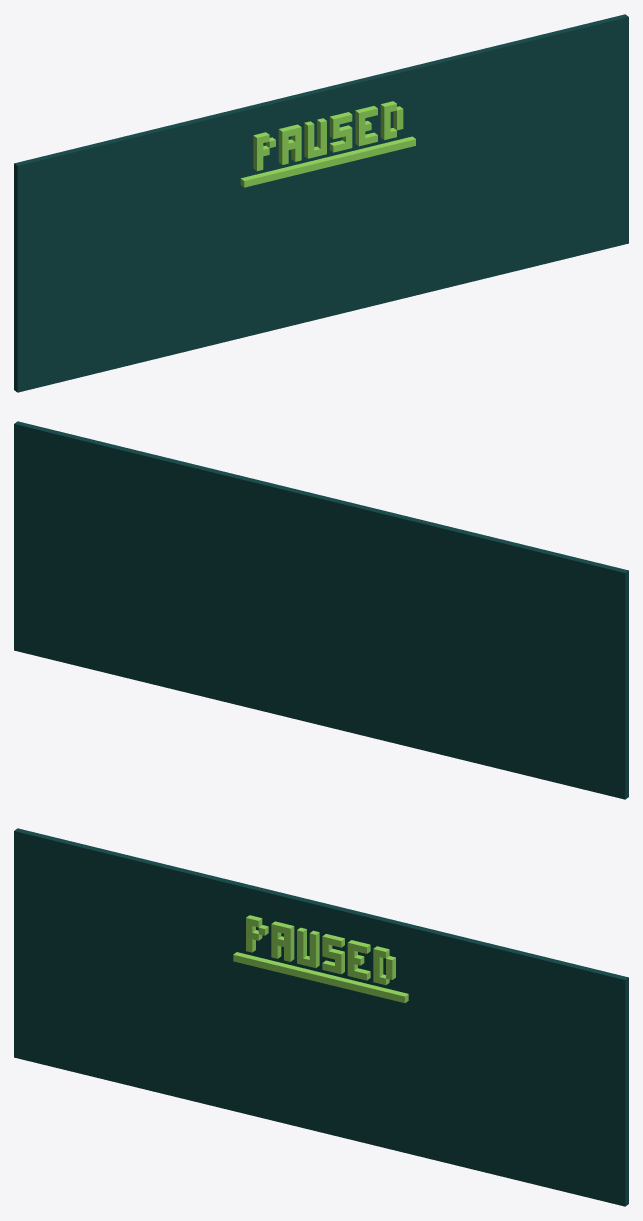
Rendered from PauseMenu.obj.
3 views of the same model, one above another, from view 1: azimuth 30°, elevation 25°; view 2: azimuth 150°, elevation 25°; view 3: azimuth 330°, elevation 25° (orthographic).
Parts seen in each view (by area): view 1: PauseMenu; view 2: PauseMenu; view 3: PauseMenu.
Part boxes in pixels (x1,y1,x2,y2): PauseMenu: (14, 14, 628, 392); PauseMenu: (14, 421, 628, 799); PauseMenu: (14, 828, 628, 1206).
Bounding box in the file's own units: 96 × 34 × 2.
Materials: 1 (1 with a texture image).
